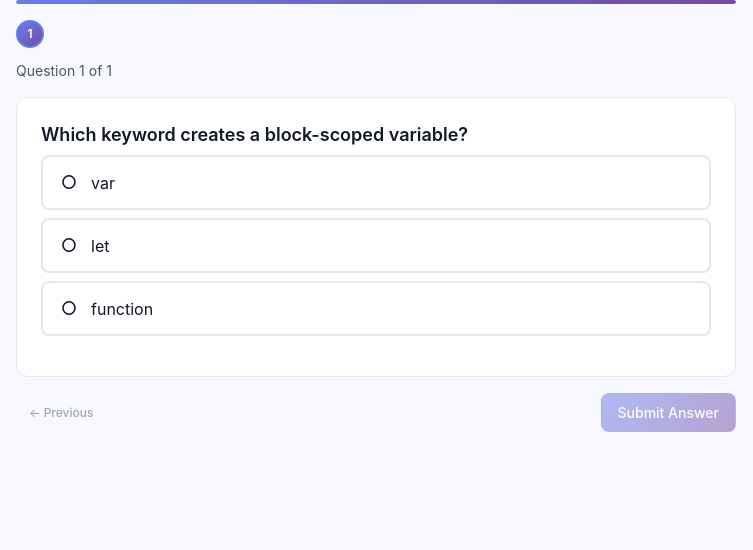
QuizPanel › shows explanation after submitting
Click the button "○ let" at point(69, 246), box [41, 218, 711, 273]
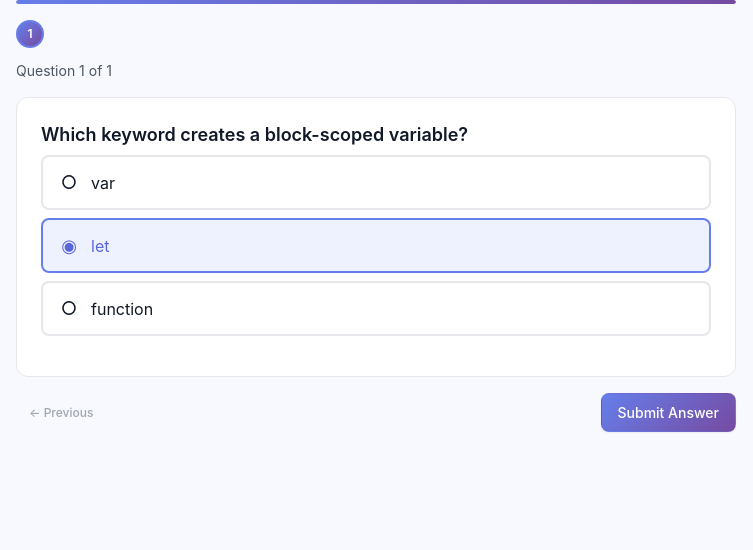
Click the button "Submit Answer" at point(668, 413), box [600, 393, 736, 432]
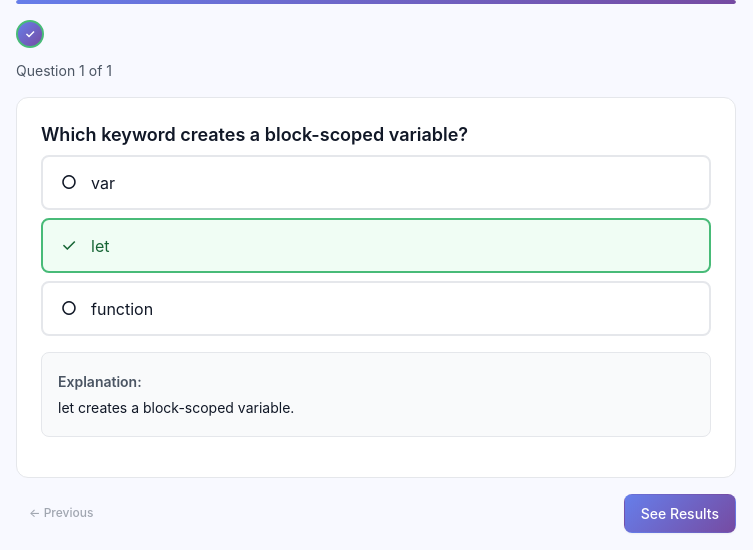
Expected: the text "let creates a block-scoped variable." is shown, [58, 399, 294, 416]
